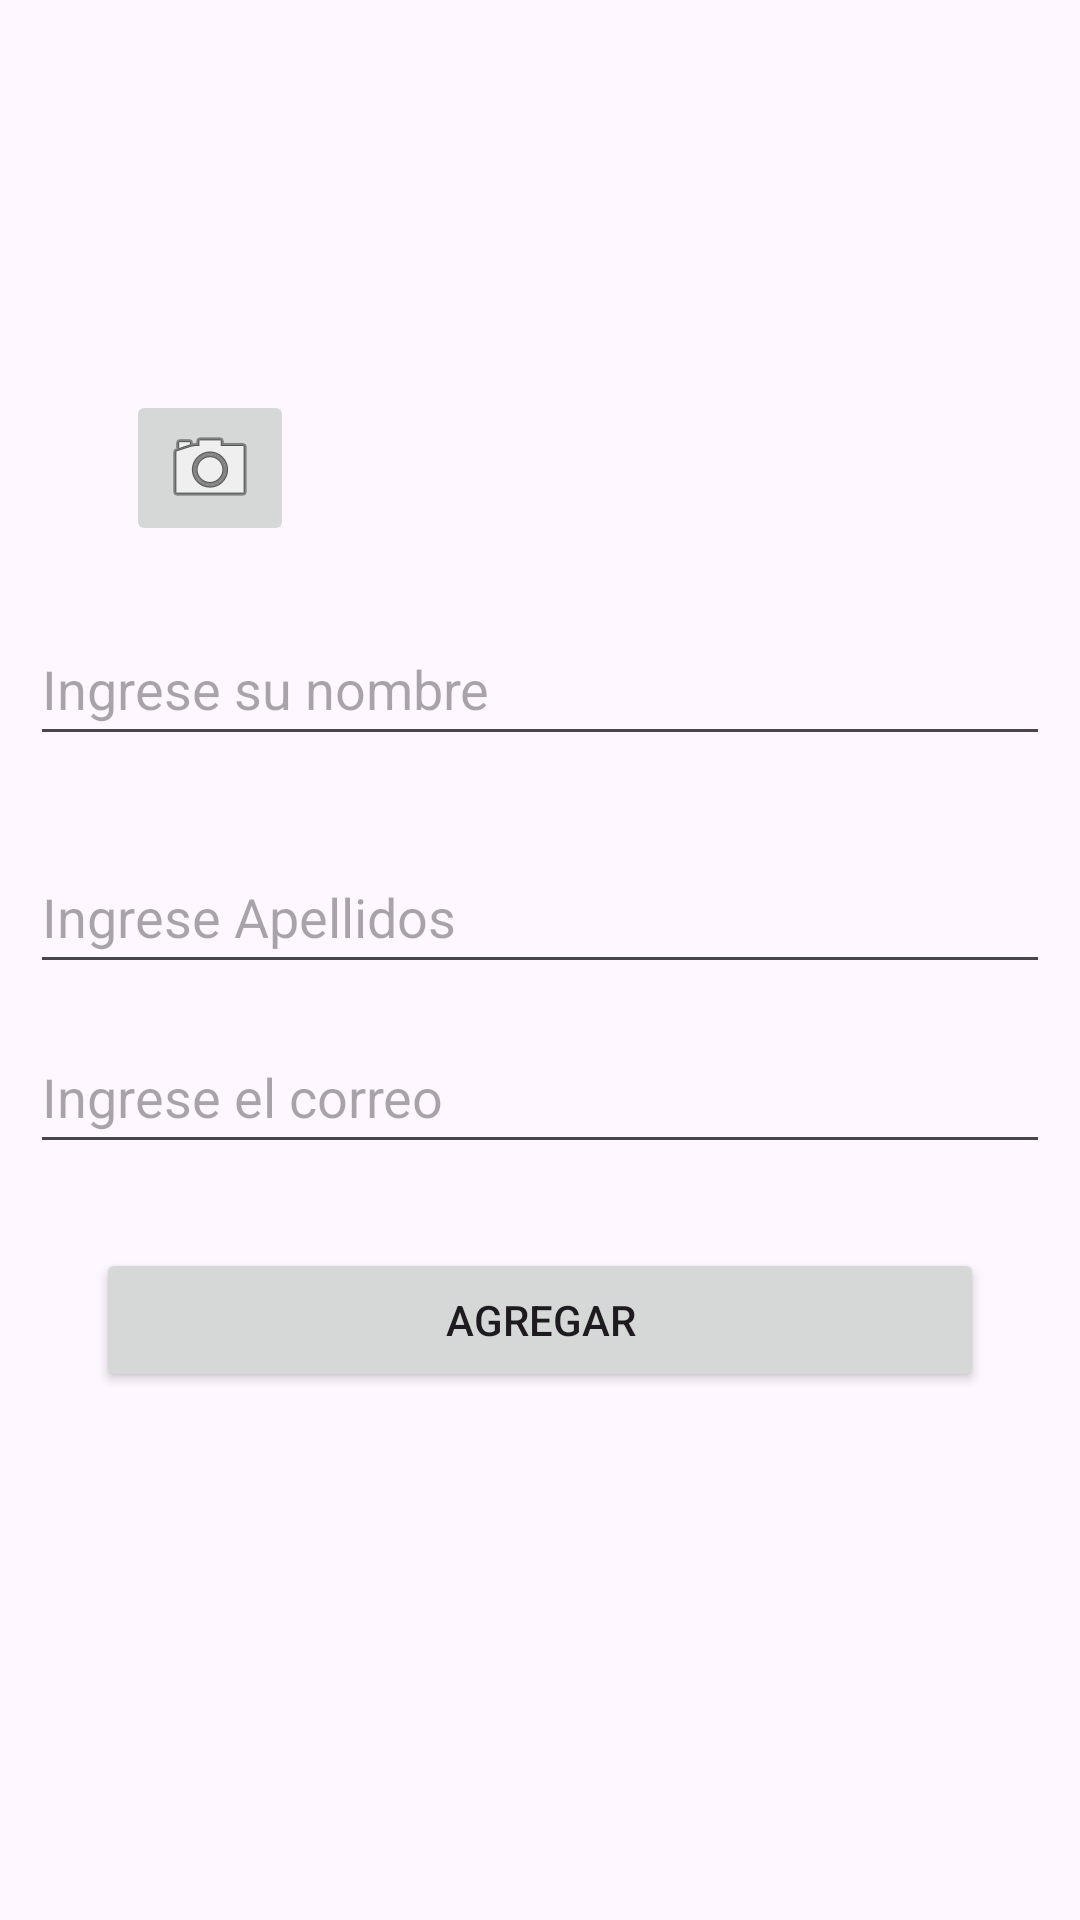

Icons on this 1080px×1920px Android screen, each with the point to tap as [x,y]:
camera: [210,468]
